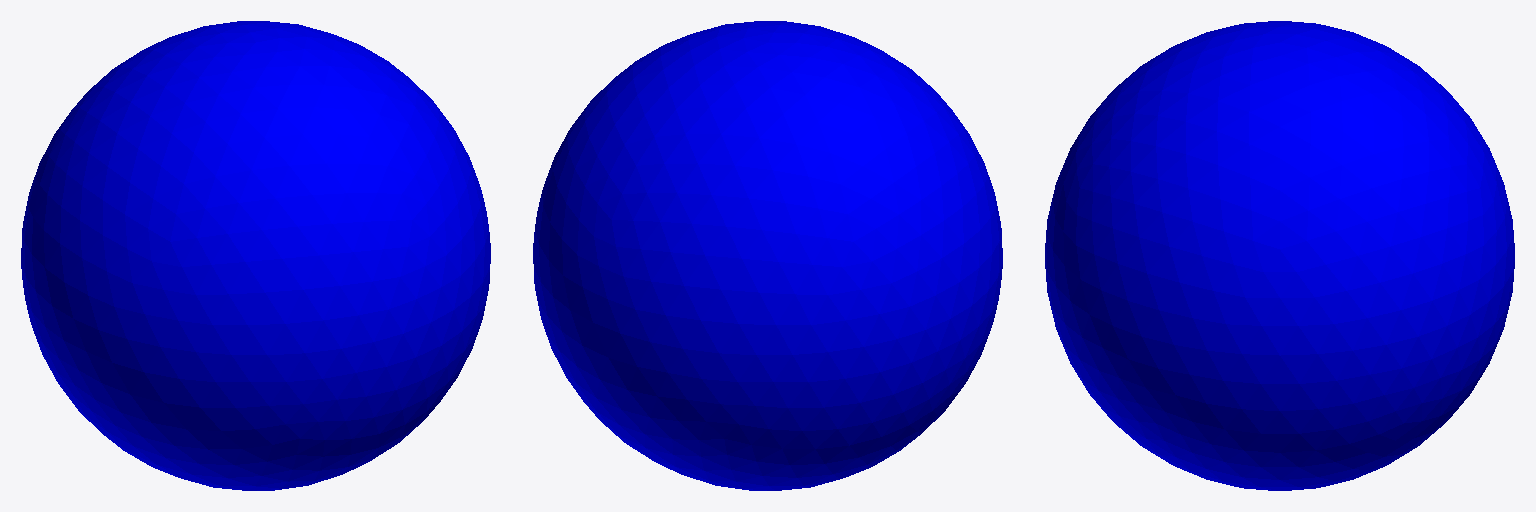
Rendered from BlueSphere.obj.
3 renders of one model, left to right at view 1: azimuth 30°, elevation 25°; view 2: azimuth 150°, elevation 25°; view 3: azimuth 270°, elevation 25°, orthographic.
Visible parts, largest first — view 1: Icosphere_Icosphere.001; view 2: Icosphere_Icosphere.001; view 3: Icosphere_Icosphere.001.
Part boxes in pixels (x1,y1,x2,y2): Icosphere_Icosphere.001: (21,21,490,490); Icosphere_Icosphere.001: (533,21,1002,490); Icosphere_Icosphere.001: (1045,21,1514,490).
Size of the model in its own units: 2 by 2 by 2.